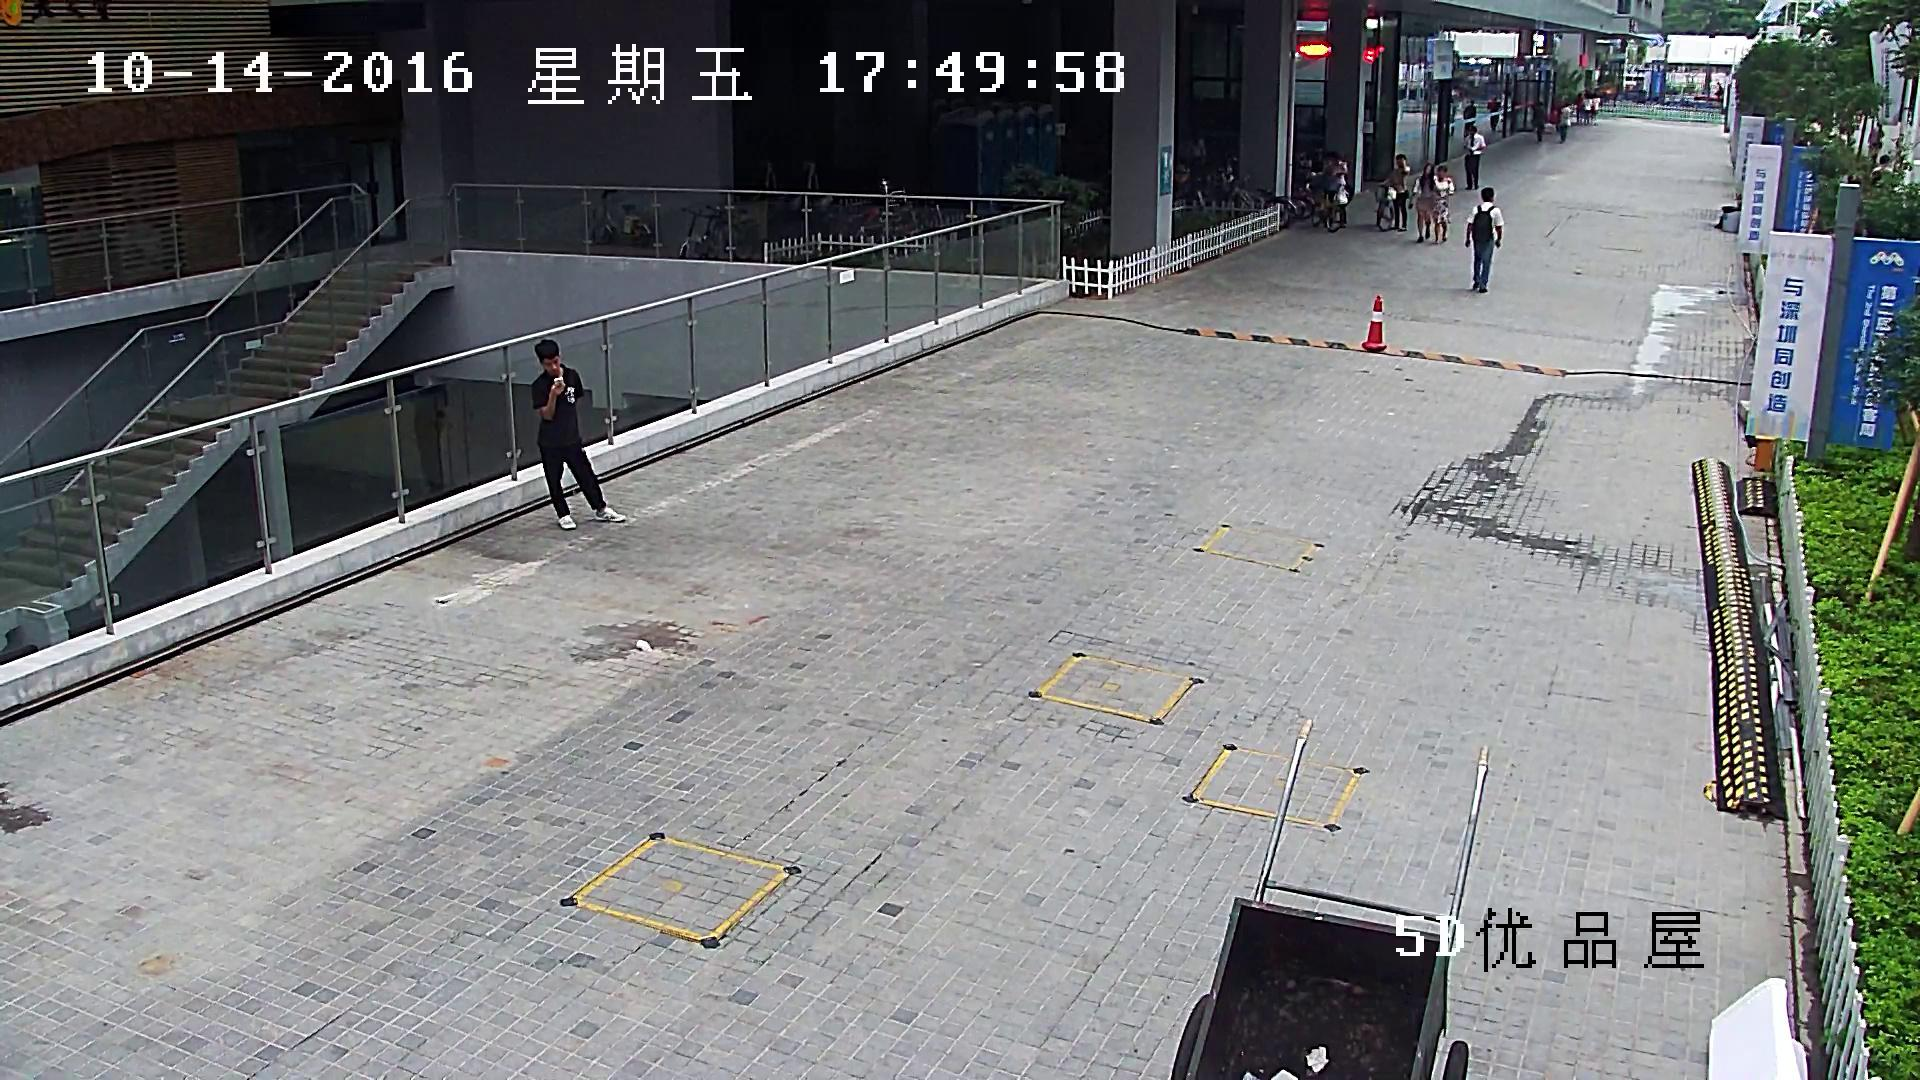person: (530, 339, 625, 530), (1465, 187, 1503, 293), (1311, 150, 1350, 233), (1377, 153, 1409, 232), (1383, 153, 1410, 231), (1409, 163, 1434, 244), (1324, 149, 1349, 228), (1432, 165, 1454, 245), (1463, 126, 1486, 189), (1530, 102, 1545, 143), (1868, 122, 1884, 164), (1869, 155, 1891, 178), (1463, 99, 1476, 136), (1559, 102, 1570, 143), (1487, 97, 1501, 130), (1574, 92, 1584, 125), (1584, 93, 1592, 126), (1592, 93, 1600, 125)
